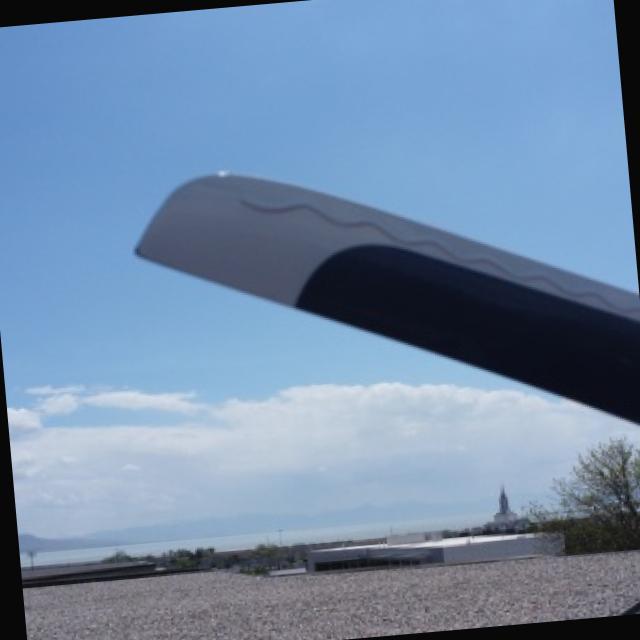healthy: (140, 171, 640, 420)
